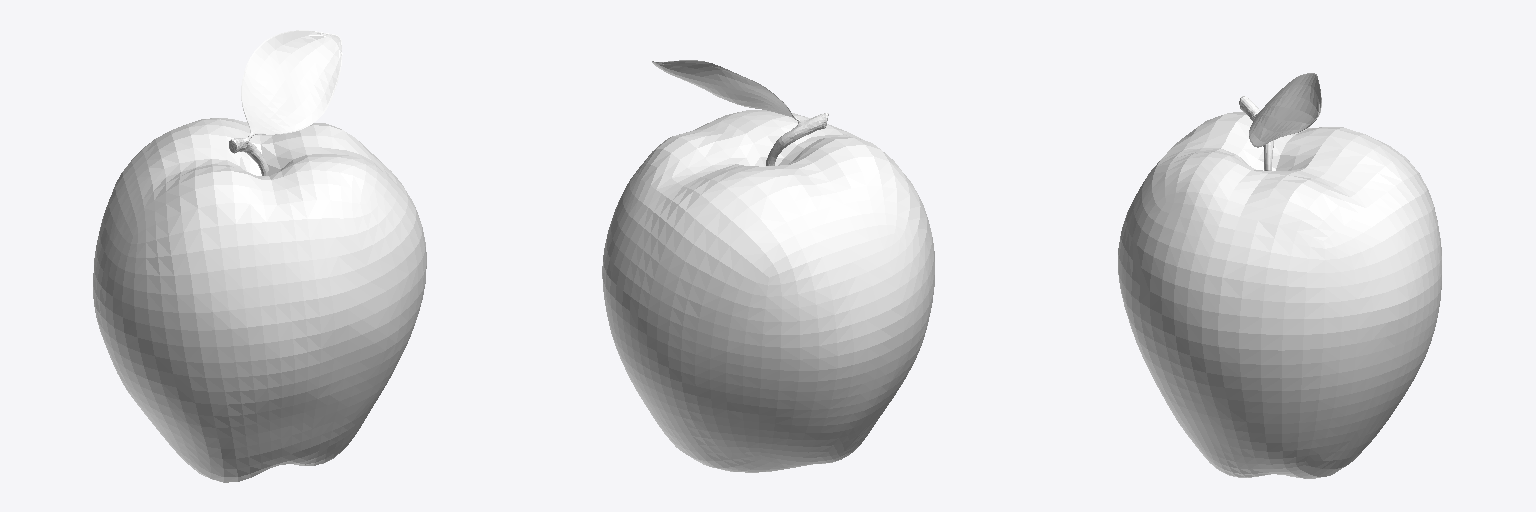
Rendered from manzana2.obj.
The picture shows the model from 3 angles: view 1: azimuth 30°, elevation 25°; view 2: azimuth 150°, elevation 25°; view 3: azimuth 270°, elevation 25°; orthographic projection.
Bounding box in the file's own units: 29.03 × 37.98 × 28.23.